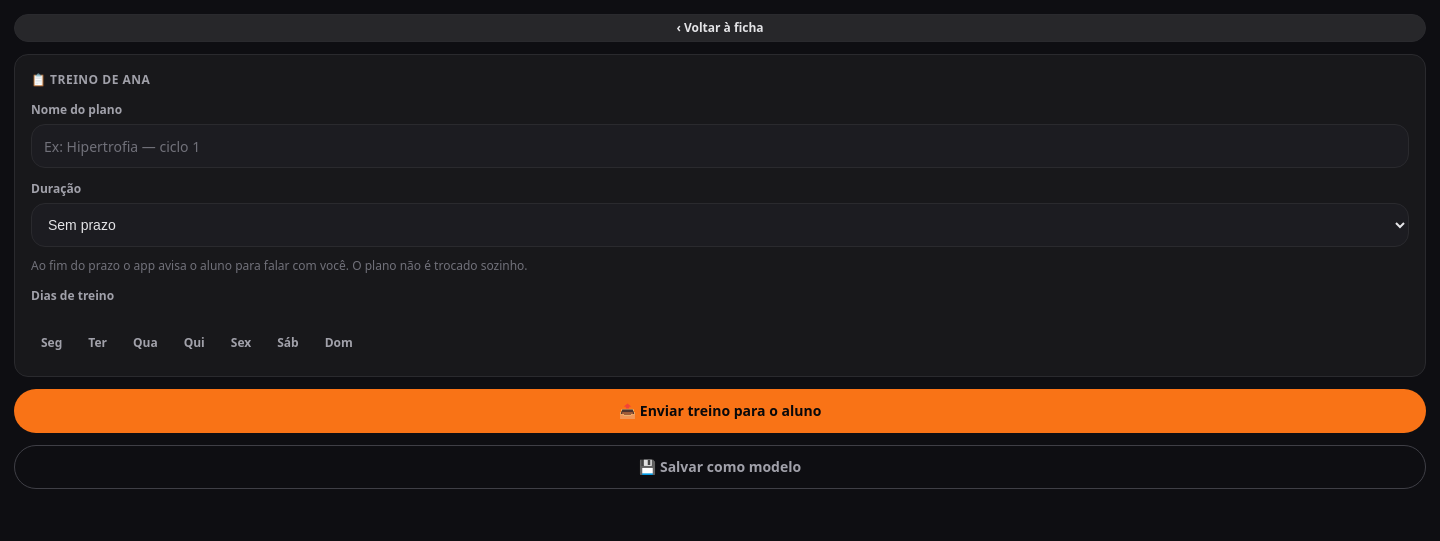
PlanBuilder — com aluno › plano inválido mostra o erro e não envia
The image size is (1440, 541).
Expected: the field labelled "Nome do plano" is shown, [31, 124, 1409, 168]
Click the button "📤 Enviar treino para o aluno". click: [720, 411]
box: [14, 389, 1426, 433]
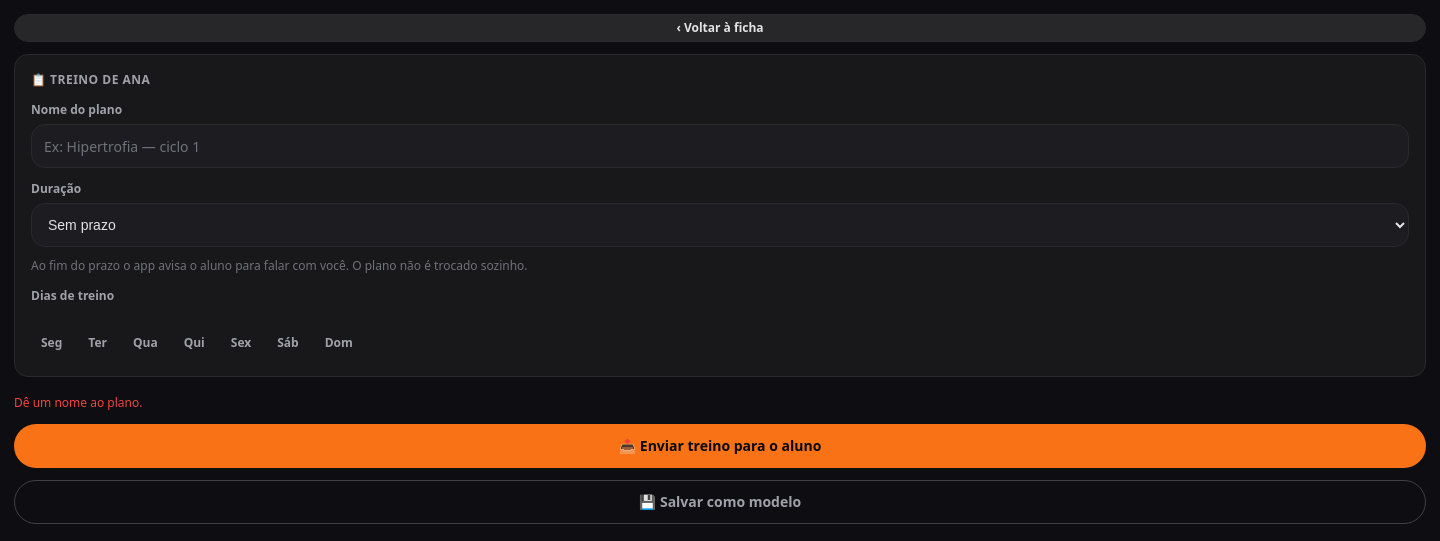
Result: the message reads "Dê um nome ao plano." at [14, 394, 142, 411]
Type "Teste" into the field labelled "Nome do plano". click: [720, 146]
box: [31, 124, 1409, 168]
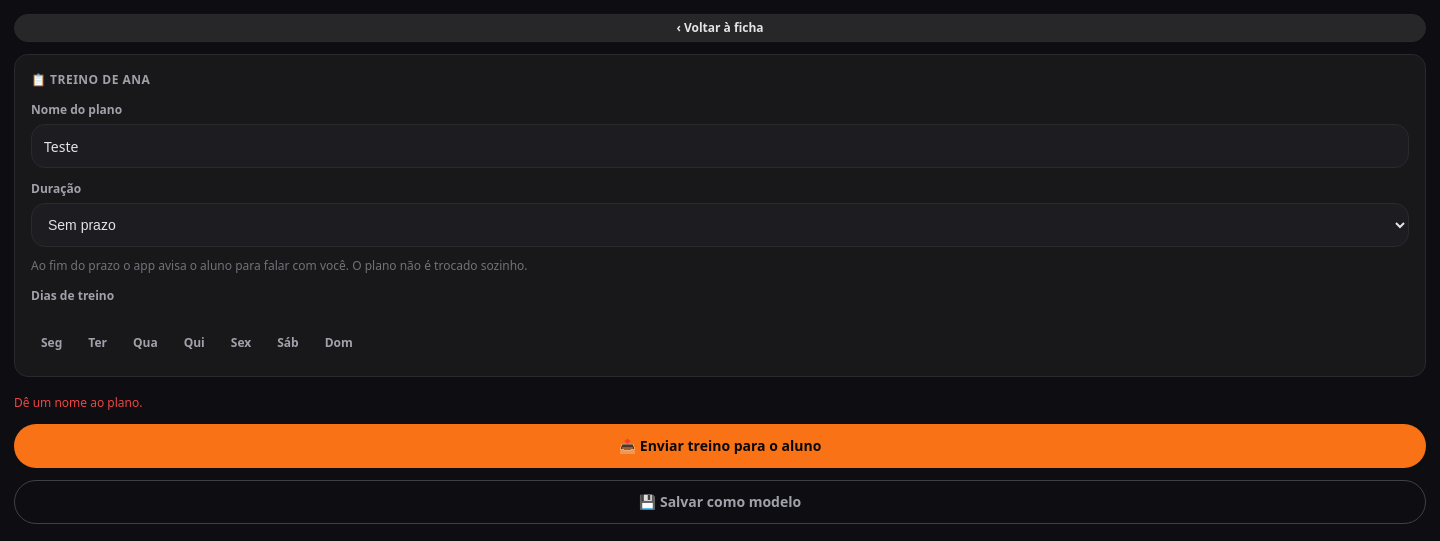
Click the button "📤 Enviar treino para o aluno". click: [720, 446]
box: [14, 424, 1426, 468]
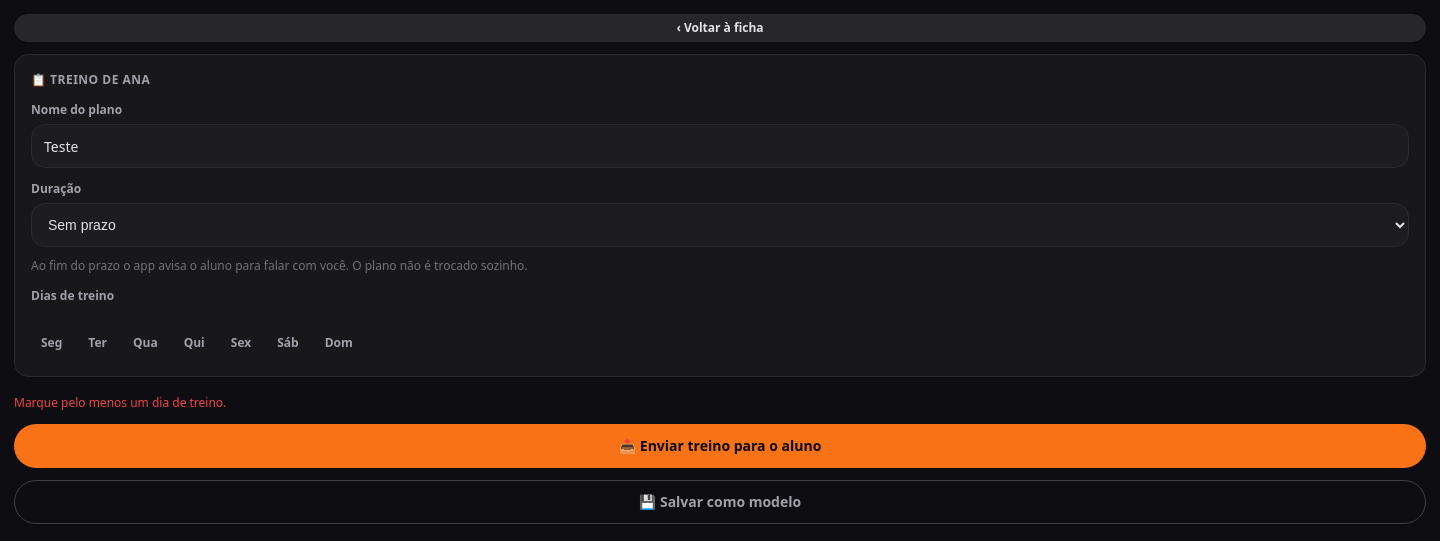
Result: the message reads "Marque pelo menos um dia de treino." at [14, 394, 226, 411]
